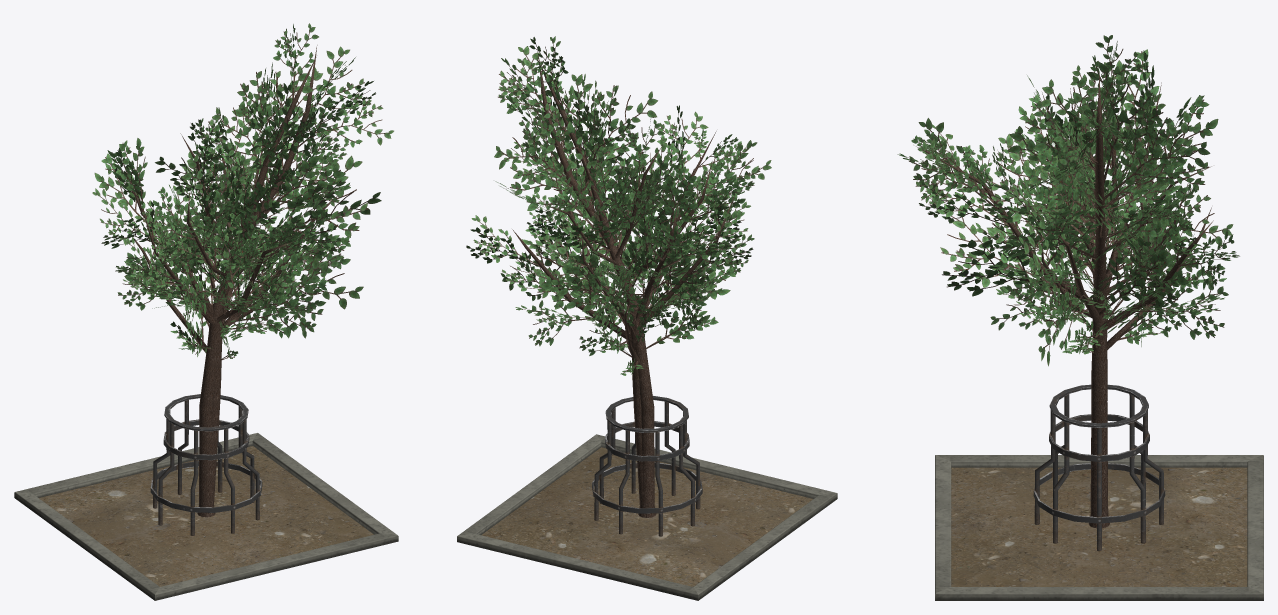
File: urbroads_sidewalktrees.fbx
3 renders of one model, left to right at view 1: azimuth 30°, elevation 25°; view 2: azimuth 150°, elevation 25°; view 3: azimuth 270°, elevation 25°, orthographic. The views are drawn at different scales.
Parts seen in each view (by area): view 1: UrbanRoad.SidewalkTree.Ground, UrbanRoad.SidewalkTreeA.Leaves, UrbanRoad.SidewalkTreeB.Leaves, UrbanRoad.SidewalkTree.Guard, UrbanRoad.SidewalkTreeA, UrbanRoad.SidewalkTreeB; view 2: UrbanRoad.SidewalkTree.Ground, UrbanRoad.SidewalkTreeA.Leaves, UrbanRoad.SidewalkTreeB.Leaves, UrbanRoad.SidewalkTree.Guard, UrbanRoad.SidewalkTreeA, UrbanRoad.SidewalkTreeB; view 3: UrbanRoad.SidewalkTree.Ground, UrbanRoad.SidewalkTreeA.Leaves, UrbanRoad.SidewalkTreeB.Leaves, UrbanRoad.SidewalkTree.Guard, UrbanRoad.SidewalkTreeB, UrbanRoad.SidewalkTreeA.
Part boxes in pixels (x1,y1,x2,y2): UrbanRoad.SidewalkTree.Ground: (14,433,398,600); UrbanRoad.SidewalkTreeA.Leaves: (92,67,393,357); UrbanRoad.SidewalkTreeB.Leaves: (115,23,381,360); UrbanRoad.SidewalkTree.Guard: (150,394,262,535); UrbanRoad.SidewalkTreeA: (121,45,337,507); UrbanRoad.SidewalkTreeB: (127,57,316,517); UrbanRoad.SidewalkTree.Ground: (457,434,837,600); UrbanRoad.SidewalkTreeA.Leaves: (494,57,752,326); UrbanRoad.SidewalkTreeB.Leaves: (466,36,771,375); UrbanRoad.SidewalkTree.Guard: (592,396,702,536); UrbanRoad.SidewalkTreeA: (537,51,716,508); UrbanRoad.SidewalkTreeB: (512,69,735,517); UrbanRoad.SidewalkTree.Ground: (935,455,1263,600); UrbanRoad.SidewalkTreeA.Leaves: (911,49,1233,366); UrbanRoad.SidewalkTreeB.Leaves: (897,35,1239,354); UrbanRoad.SidewalkTree.Guard: (1033,384,1165,551); UrbanRoad.SidewalkTreeB: (1041,70,1213,528); UrbanRoad.SidewalkTreeA: (916,71,1211,484).
Size of the model in its own units: 251 by 381 by 242.
